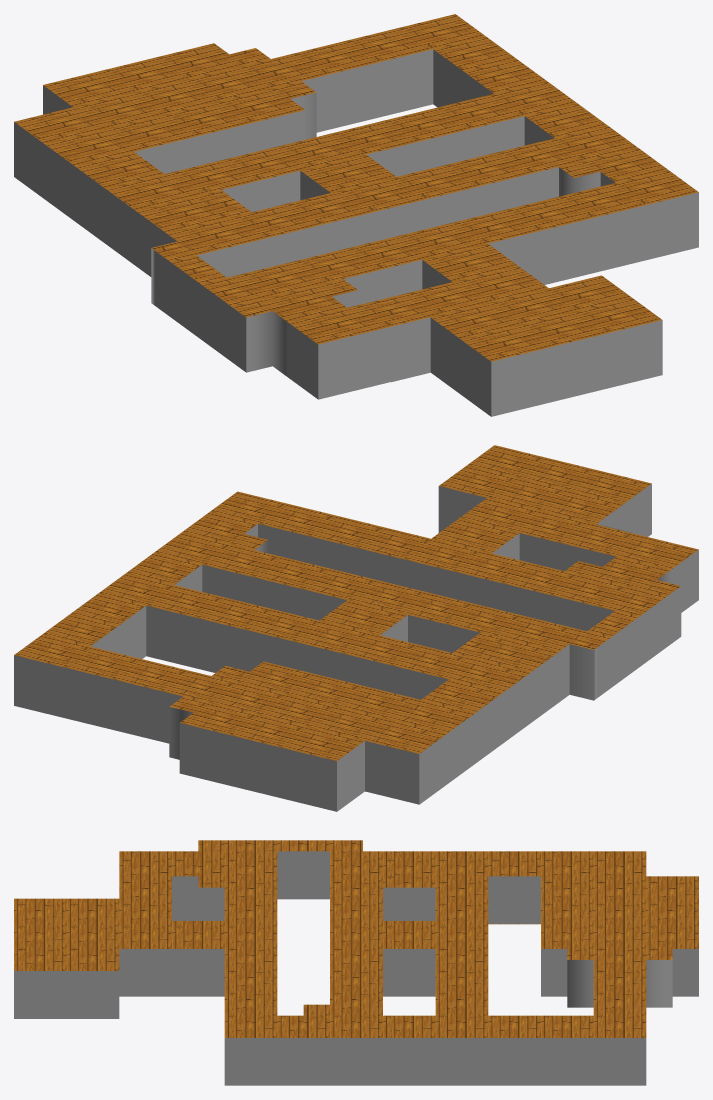
Rendered from LV4_Complete_12-13.fbx.
3 renders of one model, top to bottom at view 1: azimuth 30°, elevation 25°; view 2: azimuth 150°, elevation 25°; view 3: azimuth 270°, elevation 25°, orthographic. The views are drawn at different scales.
Visible parts, largest first — view 1: front5, polySurface168; view 2: front5, polySurface168; view 3: front5, polySurface168, polySurface162.
Boxes of the visible parts, box(x1,y1,x2,y2) form: front5: box(14, 14, 698, 361); polySurface168: box(14, 49, 698, 416); front5: box(14, 445, 698, 760); polySurface168: box(14, 484, 698, 811); front5: box(14, 840, 698, 1037); polySurface168: box(14, 851, 698, 1085); polySurface162: box(488, 876, 540, 923).
Size of the model in its own units: 71 by 8 by 104.
